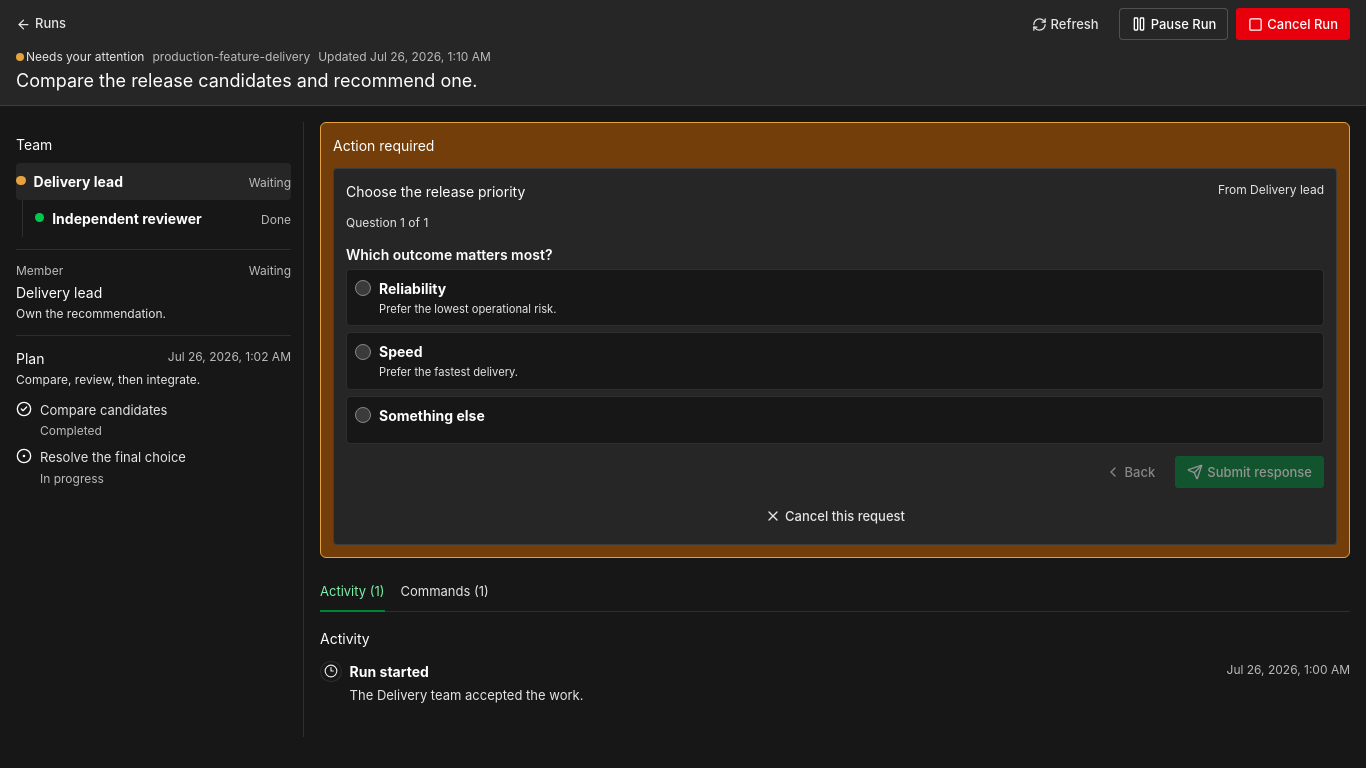
Scenario: temporary Run Studio › answers a Human Request and opens bounded Action output from controller truth
Expected: the heading "Compare the release candidates and recommend one." is shown, 16,70 -> 491,92
Expected: the heading "Action required" is shown, 333,136 -> 434,154
Click the radio button labelled "Reliability Prefer the lowest operational risk.": (363, 288) 355,280 -> 371,296
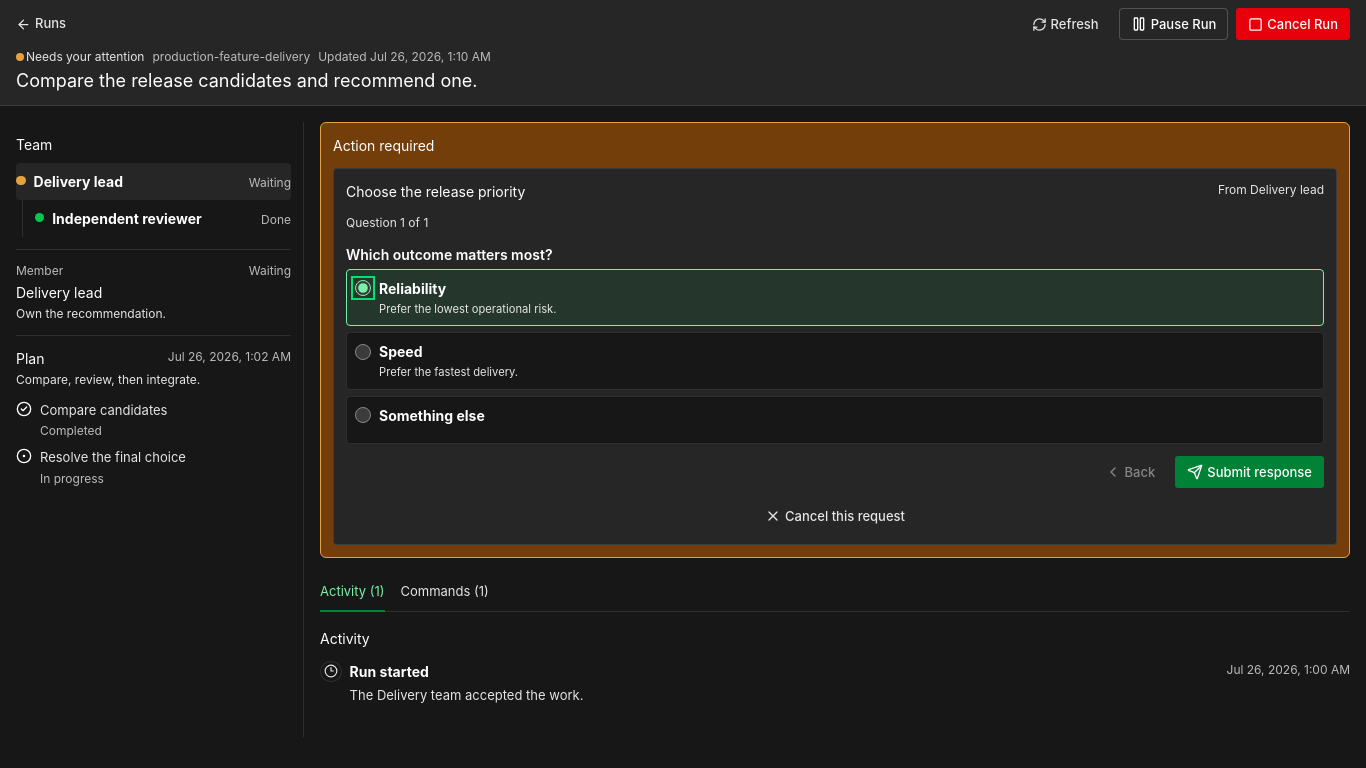
Click the button "Submit response": (1250, 472) 1175,456 -> 1324,488
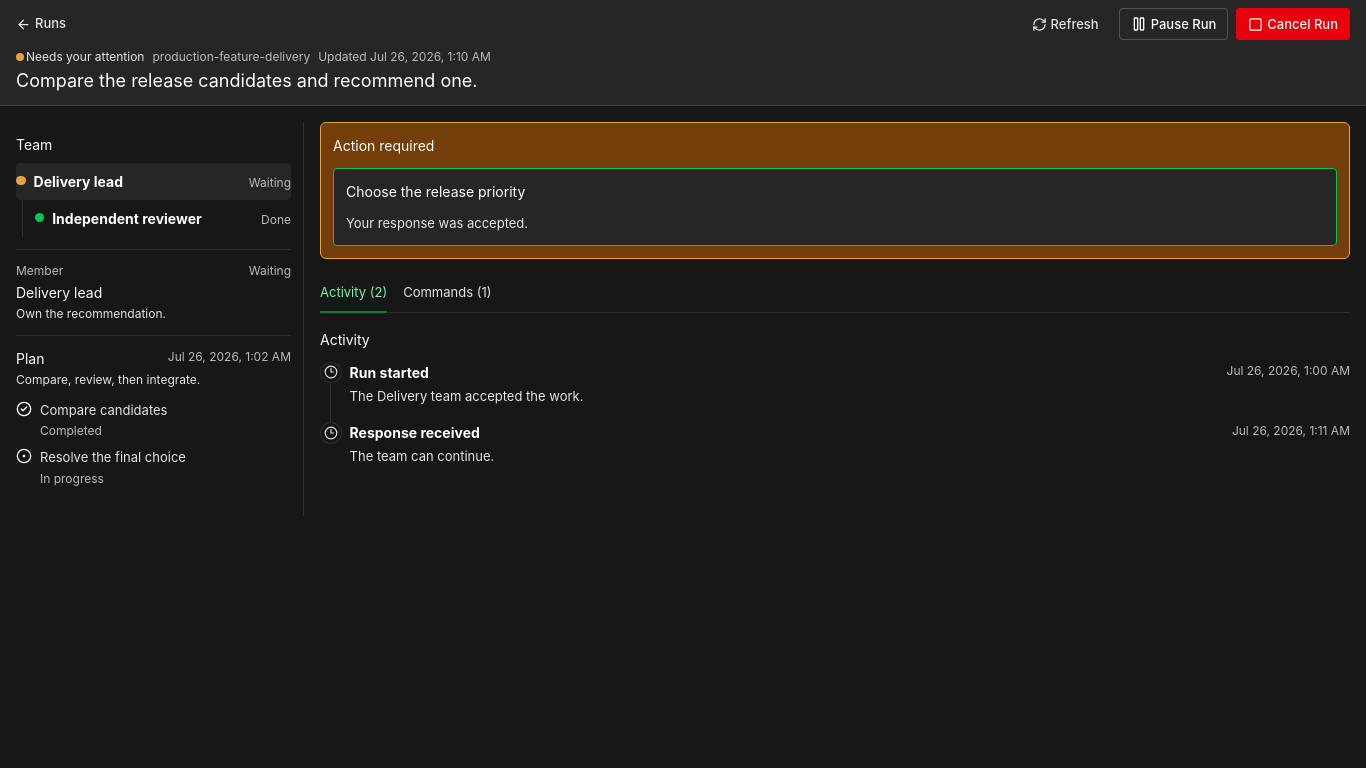
Result: the text "Response received" is shown once at 350,422 -> 480,443
Click the tab "Commands (1)": (447, 294) 403,275 -> 491,312
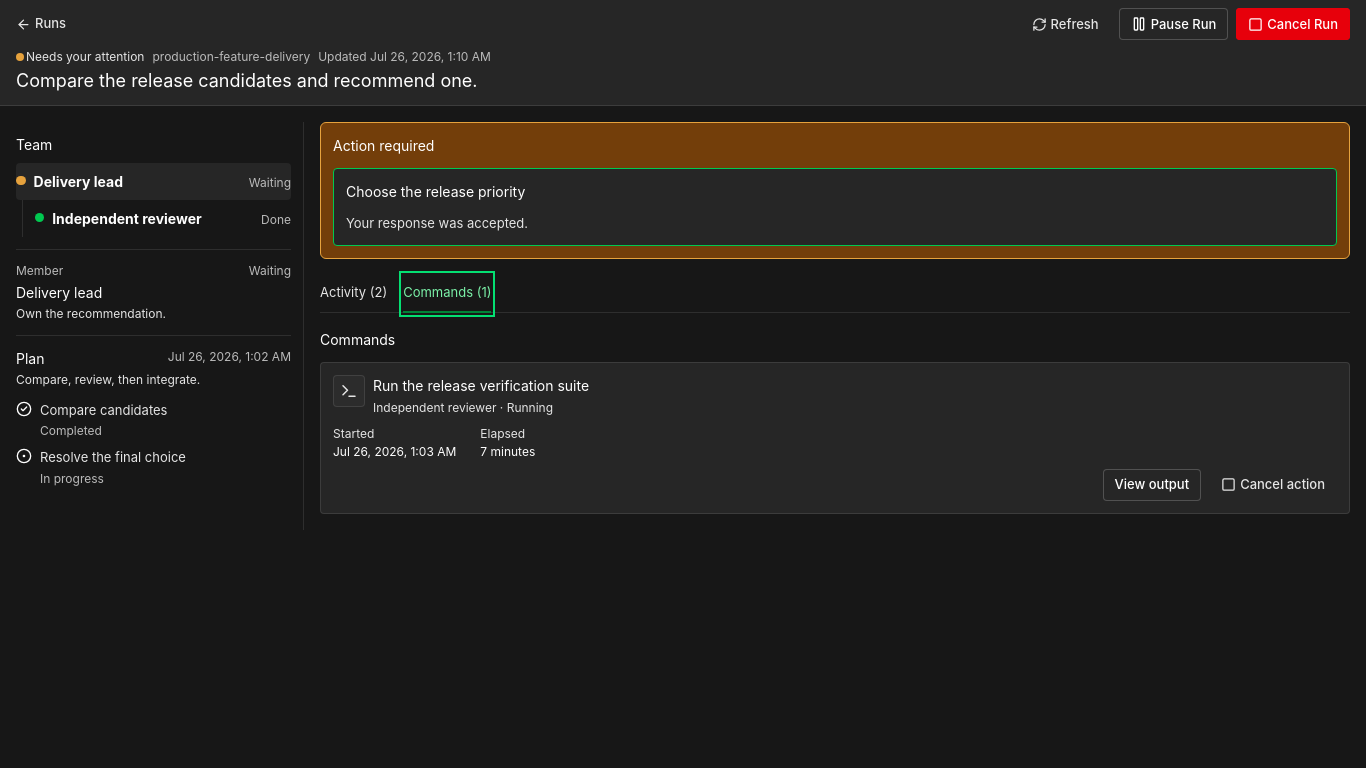
Click the button "View output": (1152, 484) 1103,468 -> 1201,500
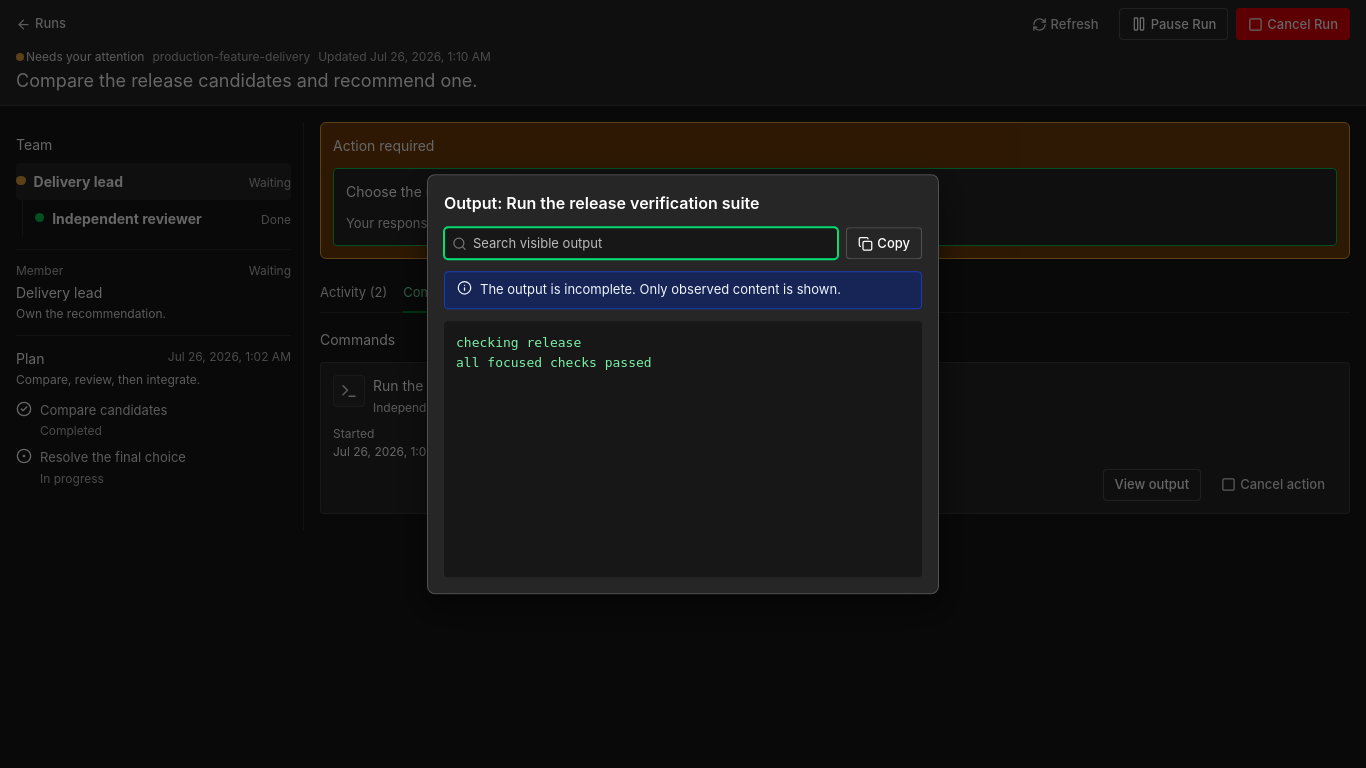
Result: the text named "Command output" shows "all focused checks passed" at 456,335 -> 652,370
Result: the text "The output is incomplete. Only observed content is shown." is shown at 480,280 -> 841,300
